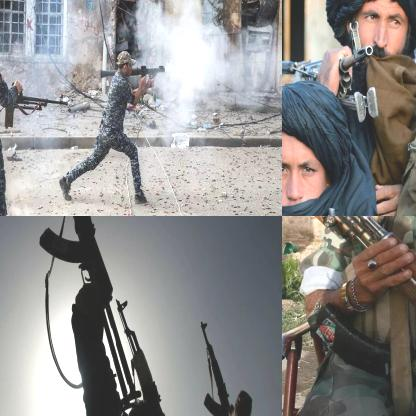rifle: (282, 216, 415, 415), (38, 216, 136, 412), (282, 17, 384, 127), (195, 318, 234, 415), (0, 83, 71, 131), (98, 60, 169, 88)
